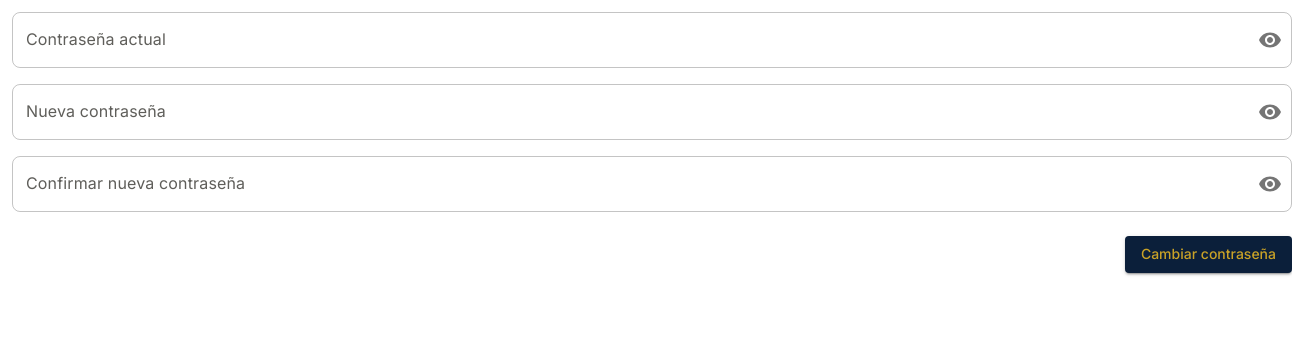
Test: ChangePasswordForm › form submission validation › should show validation error when new password is empty
Type "OldPass123" into the password field labelled "Contraseña actual".
click(627, 40); type("OldPass123")  # box [12,12,1242,68]
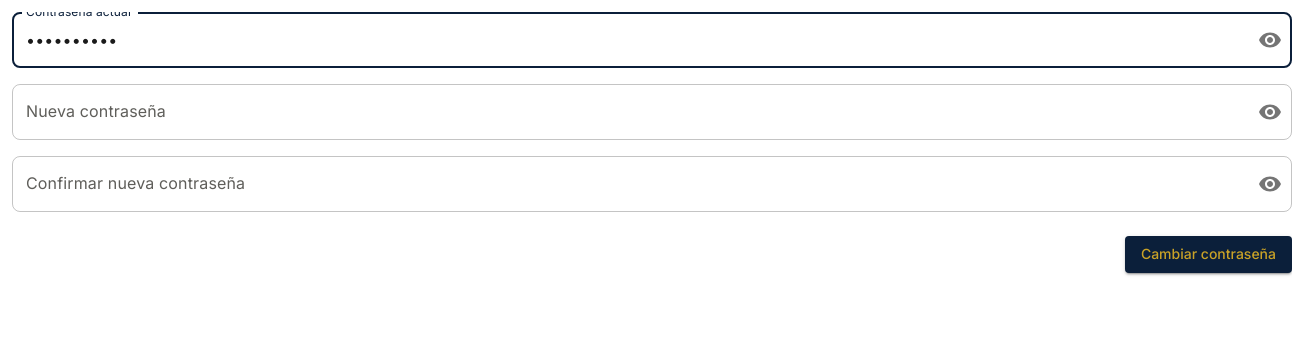
Type "NewPass123" into the password field labelled "Confirmar nueva contraseña".
click(627, 184); type("NewPass123")  # box [12,156,1242,212]
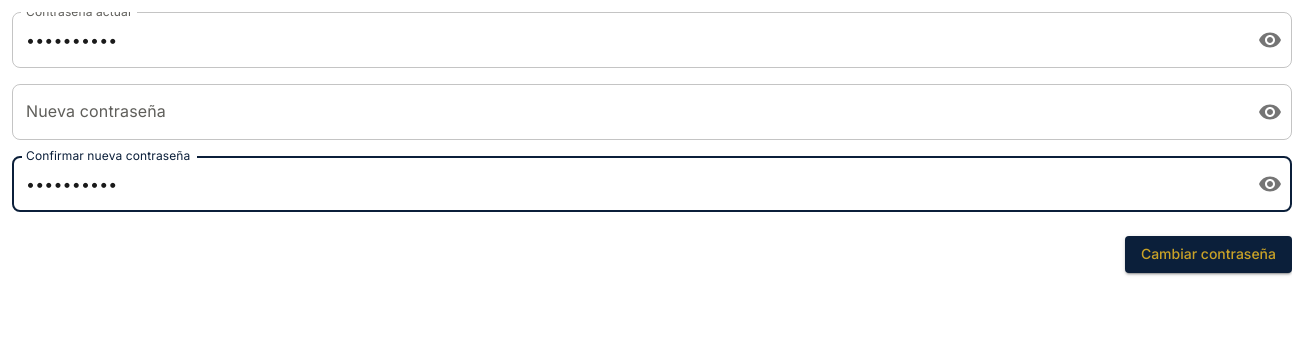
Click the button "Cambiar contraseña".
click(1208, 254)  # box [1125,236,1292,272]
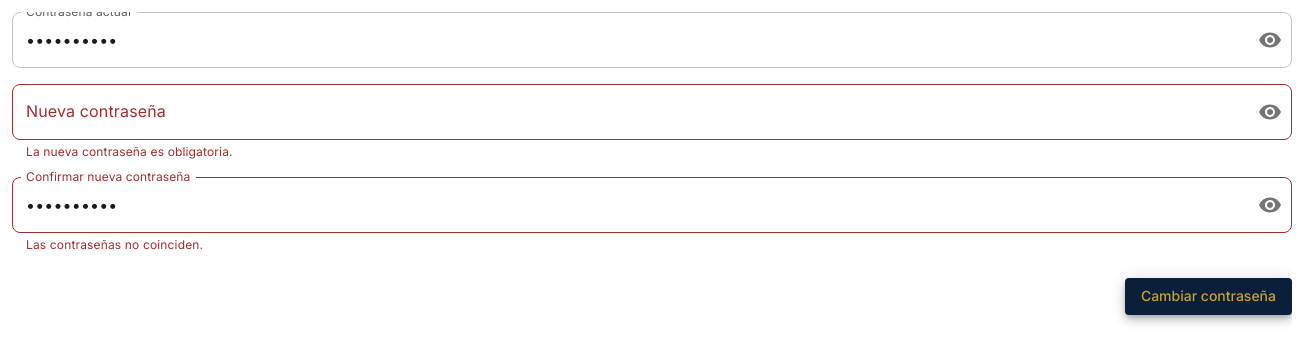
Check: the text "La nueva contraseña es obligatoria." is shown, box [26,144,233,159]
